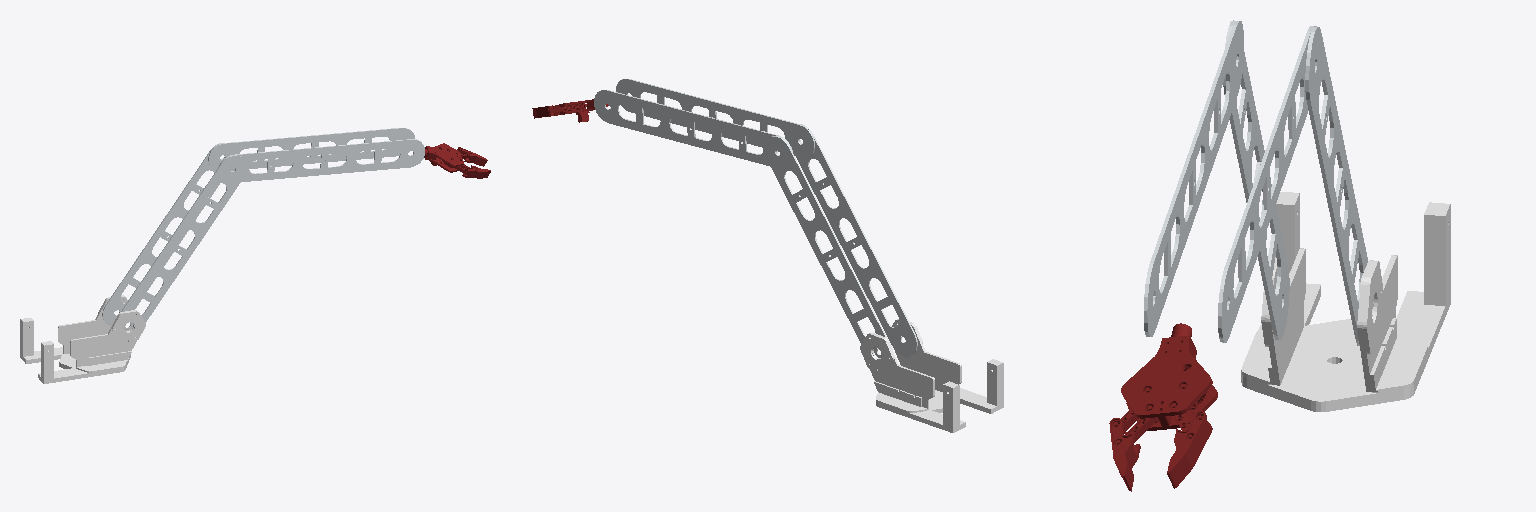
The robot description file, URDF, robot "f":
<?xml version="1.0" encoding="utf-8"?>
<!-- This URDF was automatically created by SolidWorks to URDF Exporter! Originally created by [author] ([email redacted]) 
     Commit Version: 1.6.0-4-g7f85cfe  Build Version: 1.6.7995.38578
     For more information, please see http://wiki.ros.org/sw_urdf_exporter -->
<robot
  name="f">
  <link
    name="BaseLink">
    <inertial>
      <origin
        xyz="-0.000576672752363672 0.00478492096977004 0.0544029801599401"
        rpy="0 0 0" />
      <mass
        value="1.73988992647191" />
      <inertia
        ixx="0.00546102114316155"
        ixy="-3.6741363675467E-05"
        ixz="-6.67364191607427E-06"
        iyy="0.00476020655786922"
        iyz="-9.3143445347389E-06"
        izz="0.00806261540001816" />
    </inertial>
    <visual>
      <origin
        xyz="0 0 0"
        rpy="0 0 0" />
      <geometry>
        <mesh
          filename="package://f/meshes/BaseLink.STL" />
      </geometry>
      <material
        name="">
        <color
          rgba="0.96078431372549 0.96078431372549 0.964705882352941 1" />
      </material>
    </visual>
    <collision>
      <origin
        xyz="0 0 0"
        rpy="0 0 0" />
      <geometry>
        <mesh
          filename="package://f/meshes/BaseLink.STL" />
      </geometry>
    </collision>
  </link>
  <link
    name="1">
    <inertial>
      <origin
        xyz="-0.0305112504614763 0.0052781089672593 0.0355535365457724"
        rpy="0 0 0" />
      <mass
        value="0.887320906853074" />
      <inertia
        ixx="0.0028241951756743"
        ixy="0.000408242889875551"
        ixz="0.000534529465246924"
        iyy="0.00514472999665455"
        iyz="-9.13606221333148E-05"
        izz="0.00653569254499971" />
    </inertial>
    <visual>
      <origin
        xyz="0 0 0"
        rpy="0 0 0" />
      <geometry>
        <mesh
          filename="package://f/meshes/1.STL" />
      </geometry>
      <material
        name="">
        <color
          rgba="0.96078431372549 0.96078431372549 0.964705882352941 1" />
      </material>
    </visual>
    <collision>
      <origin
        xyz="0 0 0"
        rpy="0 0 0" />
      <geometry>
        <mesh
          filename="package://f/meshes/1.STL" />
      </geometry>
    </collision>
  </link>
  <joint
    name="BasePlate"
    type="continuous">
    <origin
      xyz="0 0 0.13059"
      rpy="0 0 0" />
    <parent
      link="BaseLink" />
    <child
      link="1" />
    <axis
      xyz="0 0 1" />
  </joint>
  <link
    name="2">
    <inertial>
      <origin
        xyz="0.1469116576661 -0.0251283350176051 0.203930753058995"
        rpy="0 0 0" />
      <mass
        value="0.713576578661906" />
      <inertia
        ixx="0.0141599678952351"
        ixy="0.00127401697963179"
        ixz="-0.0097020494773174"
        iyy="0.0213905369436929"
        iyz="0.00165947586118381"
        izz="0.00766829744864748" />
    </inertial>
    <visual>
      <origin
        xyz="0 0 0"
        rpy="0 0 0" />
      <geometry>
        <mesh
          filename="package://f/meshes/2.STL" />
      </geometry>
      <material
        name="">
        <color
          rgba="0.898039215686275 0.917647058823529 0.929411764705882 1" />
      </material>
    </visual>
    <collision>
      <origin
        xyz="0 0 0"
        rpy="0 0 0" />
      <geometry>
        <mesh
          filename="package://f/meshes/2.STL" />
      </geometry>
    </collision>
  </link>
  <joint
    name="RoboticArm1"
    type="continuous">
    <origin
      xyz="0.074827 -0.012799 0.10976"
      rpy="0 0 0" />
    <parent
      link="1" />
    <child
      link="2" />
    <axis
      xyz="0.1686 0.98569 0" />
  </joint>
  <link
    name="3">
    <inertial>
      <origin
        xyz="0.243248839773686 -0.0416062172027831 -0.0176105344940926"
        rpy="0 0 0" />
      <mass
        value="0.713576578661908" />
      <inertia
        ixx="0.00117689139509625"
        ixy="0.0034946923231511"
        ixz="0.00144594799297459"
        iyy="0.0210107040911898"
        iyz="-0.000247320506505186"
        izz="0.0210312068012895" />
    </inertial>
    <visual>
      <origin
        xyz="0 0 0"
        rpy="0 0 0" />
      <geometry>
        <mesh
          filename="package://f/meshes/3.STL" />
      </geometry>
      <material
        name="">
        <color
          rgba="0.898039215686275 0.917647058823529 0.929411764705882 1" />
      </material>
    </visual>
    <collision>
      <origin
        xyz="0 0 0"
        rpy="0 0 0" />
      <geometry>
        <mesh
          filename="package://f/meshes/3.STL" />
      </geometry>
    </collision>
  </link>
  <joint
    name="RoboticArm2"
    type="continuous">
    <origin
      xyz="0.29081 -0.049741 0.40368"
      rpy="0 0 0" />
    <parent
      link="2" />
    <child
      link="3" />
    <axis
      xyz="0.1686 0.98569 0" />
  </joint>
  <link
    name="4">
    <inertial>
      <origin
        xyz="0.027542907368486 -0.00510163599952318 -0.0118250927213672"
        rpy="0 0 0" />
      <mass
        value="0.0838934808116947" />
      <inertia
        ixx="0.000155353617258918"
        ixy="-7.13757253981151E-06"
        ixz="1.1108507878993E-05"
        iyy="0.000114844964774239"
        iyz="-1.90004191609782E-06"
        izz="0.000178509982441729" />
    </inertial>
    <visual>
      <origin
        xyz="0 0 0"
        rpy="0 0 0" />
      <geometry>
        <mesh
          filename="package://f/meshes/4.STL" />
      </geometry>
      <material
        name="">
        <color
          rgba="0.792156862745098 0.819607843137255 0.933333333333333 1" />
      </material>
    </visual>
    <collision>
      <origin
        xyz="0 0 0"
        rpy="0 0 0" />
      <geometry>
        <mesh
          filename="package://f/meshes/4.STL" />
      </geometry>
    </collision>
  </link>
  <joint
    name="Holder"
    type="continuous">
    <origin
      xyz="0.49159 -0.084084 -0.03559"
      rpy="0 0 0" />
    <parent
      link="3" />
    <child
      link="4" />
    <axis
      xyz="-0.1686 -0.98569 0" />
  </joint>
  <link
    name="5">
    <inertial>
      <origin
        xyz="0.837414870070221 -0.331531565029156 0.642646061320301"
        rpy="0 0 0" />
      <mass
        value="0.42276928387442" />
      <inertia
        ixx="8.81044654600067E-05"
        ixy="1.13183915059976E-05"
        ixz="4.76090199218947E-05"
        iyy="0.000171066499897428"
        iyz="-1.61870965232161E-05"
        izz="0.00018322377314253" />
    </inertial>
    <visual>
      <origin
        xyz="0 0 0"
        rpy="0 0 0" />
      <geometry>
        <mesh
          filename="package://f/meshes/5.STL" />
      </geometry>
      <material
        name="">
        <color
          rgba="0.549019607843137 0.180392156862745 0.180392156862745 1" />
      </material>
    </visual>
    <collision>
      <origin
        xyz="0 0 0"
        rpy="0 0 0" />
      <geometry>
        <mesh
          filename="package://f/meshes/5.STL" />
      </geometry>
    </collision>
  </link>
  <joint
    name="Gripper"
    type="continuous">
    <origin
      xyz="-0.67446 0.30266 -0.71335"
      rpy="0 0 0" />
    <parent
      link="4" />
    <child
      link="5" />
    <axis
      xyz="0.90807 -0.15532 -0.38895" />
  </joint>
</robot>

--- Render facts (derived) ---
The picture shows the robot from 3 angles, left to right: view 1: azimuth 30°, elevation 25°; view 2: azimuth 150°, elevation 25°; view 3: azimuth 270°, elevation 25°; orthographic projection.
Model f with 6 links and 5 joints (5 continuous), rooted at BaseLink, posed every joint at zero.
Visible links, largest first — view 1: 3, 2, 1, 5; view 2: 2, 3, 1, 5; view 3: 1, 3, 2, 5.
Boxes of the visible links, box(x1,y1,x2,y2) form: 3: box(208, 128, 424, 181); 2: box(102, 143, 247, 330); 1: box(20, 295, 145, 383); 5: box(424, 143, 490, 178); 2: box(764, 124, 917, 357); 3: box(594, 79, 814, 166); 1: box(860, 319, 1003, 432); 5: box(532, 99, 608, 122); 1: box(1241, 192, 1450, 411); 3: box(1144, 21, 1314, 342); 2: box(1223, 20, 1367, 345); 5: box(1109, 323, 1217, 491).
Size in the robot's own frame: 1.28 by 0.3436 by 0.5534 metres.
Meshes: 6 distinct files referenced, 4 mesh visuals loaded (4 binary STL); not drawn: 2 (reference not matched to a file when rendering).